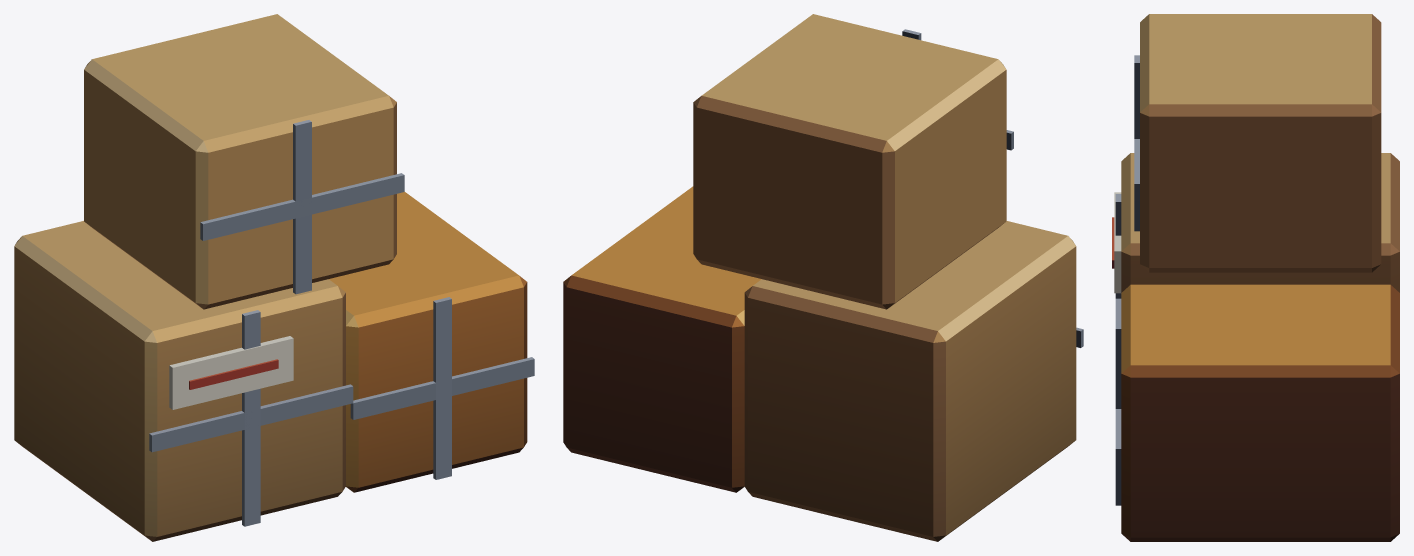
File: cargo_crates.glb
3 renders of one model, left to right at view 1: azimuth 30°, elevation 25°; view 2: azimuth 150°, elevation 25°; view 3: azimuth 270°, elevation 25°, orthographic.
Visible parts, largest first — view 1: cargo_crates; view 2: cargo_crates; view 3: cargo_crates.
Part boxes in pixels (x1,y1,x2,y2): cargo_crates: (14,14,534,541); cargo_crates: (563,14,1083,541); cargo_crates: (1112,14,1399,541).
Size of the model in its own units: 0.95 by 0.9 by 0.62.
